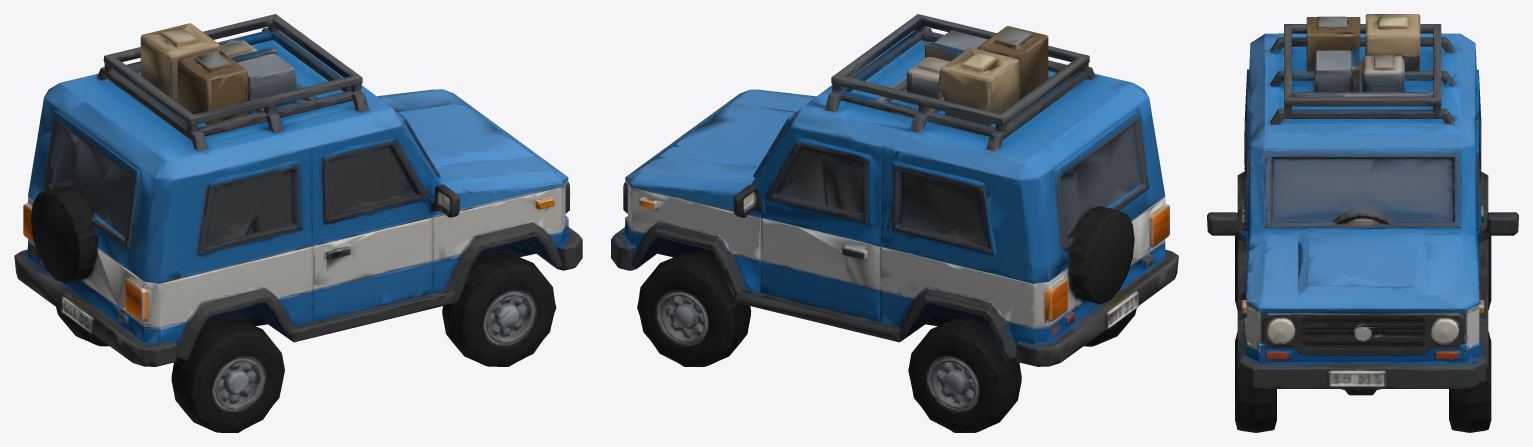
File: bridge_car_model.glb
3 views of the same model, side by side, from view 1: azimuth 30°, elevation 25°; view 2: azimuth 150°, elevation 25°; view 3: azimuth 270°, elevation 25° (orthographic). The views are drawn at different scales.
Visible parts, largest first — view 1: node_0; view 2: node_0; view 3: node_0.
Boxes of the visible parts, left/top/right/bottom form: node_0: left=14, top=14, right=582, bottom=432; node_0: left=611, top=14, right=1178, bottom=432; node_0: left=1207, top=14, right=1518, bottom=432.
Size of the model in its own units: 1.06 by 0.7302 by 0.6889.
Materials: 1 (1 with a texture image).
